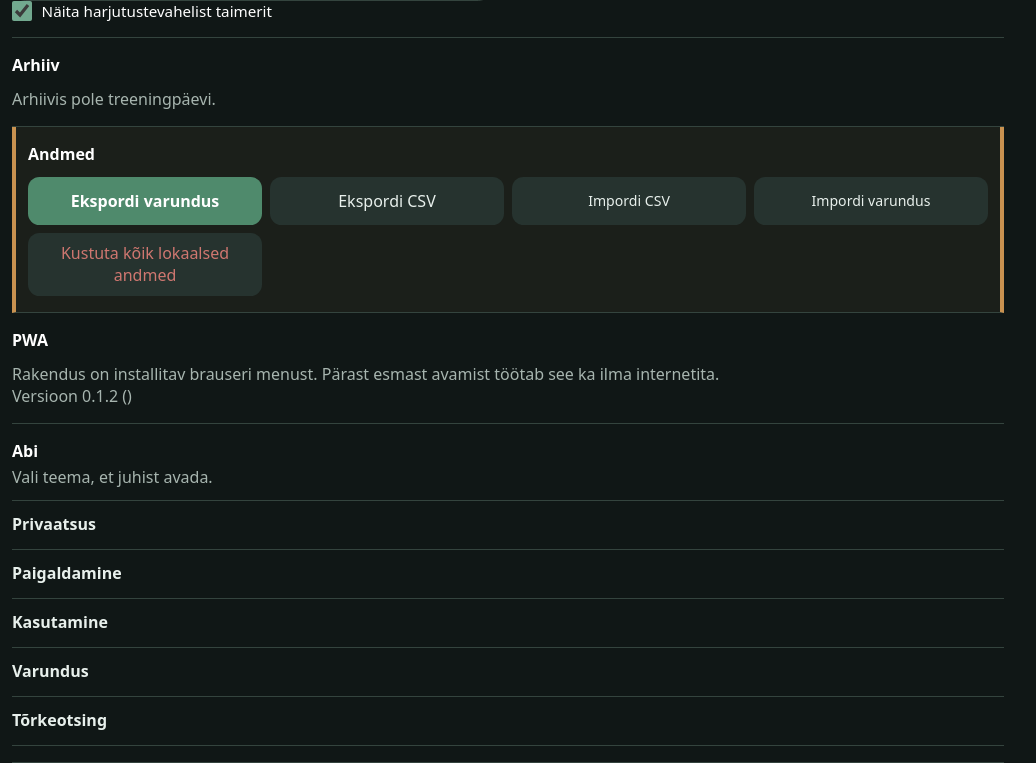
Scenario: SettingsPage › describes where exercises, days and rest time are managed in the usage help
The width and height of the screenshot is (1036, 763).
(page scrolled)
Click the heading "Kasutamine": [60, 622] box [12,611,108,633]
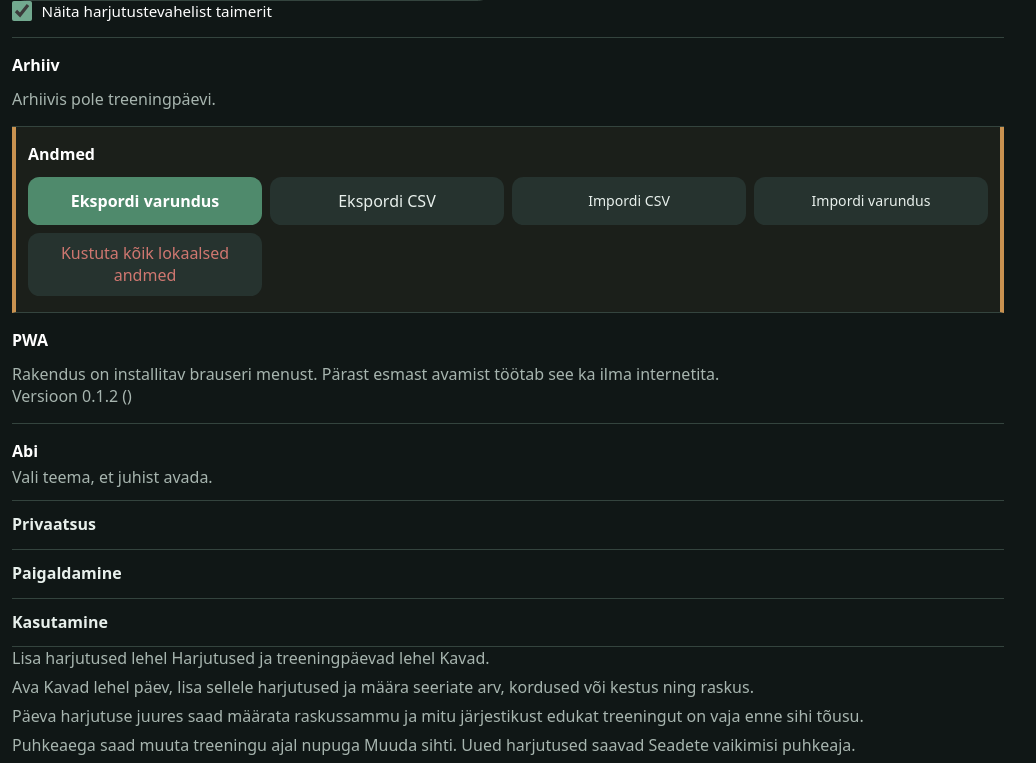
Check: the text "Lisa harjutused lehel Harjutused ja treeningpäevad lehel Kavad." is shown, box [12,647,490,669]
Check: the text "Puhkeaega saad muuta treeningu ajal nupuga Muuda sihti. Uued harjutused saavad Seadete vaikimisi puhkeaja." is shown, box [12,734,856,756]
